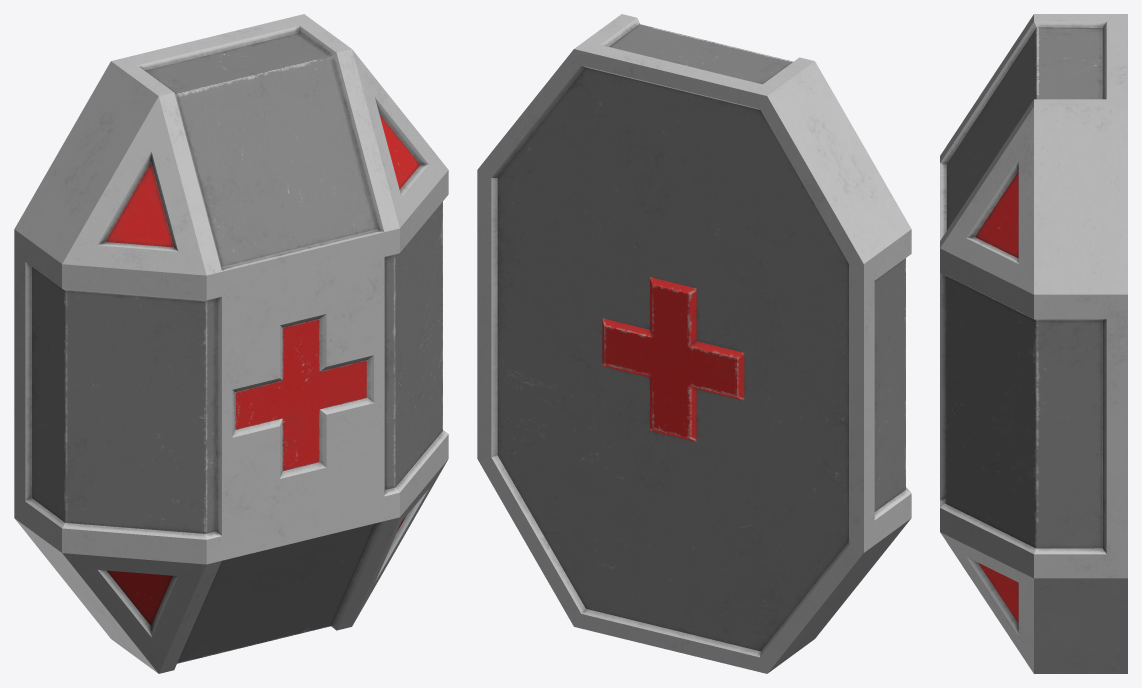
File: Health_Pack_Asset_-_Sci_Fi.obj
3 views of the same model, side by side, from view 1: azimuth 30°, elevation 25°; view 2: azimuth 150°, elevation 25°; view 3: azimuth 270°, elevation 25° (orthographic).
Parts seen in each view (by area): view 1: defaultMaterial_1; view 2: defaultMaterial_1; view 3: defaultMaterial_1.
Boxes of the visible parts, x1,y1,x2,y2 form: defaultMaterial_1: (14,14,448,673); defaultMaterial_1: (477,14,911,673); defaultMaterial_1: (940,14,1127,673).
Bounding box in the file's own units: 29.93 × 42.76 × 12.83.
1 material, 1 textured.
